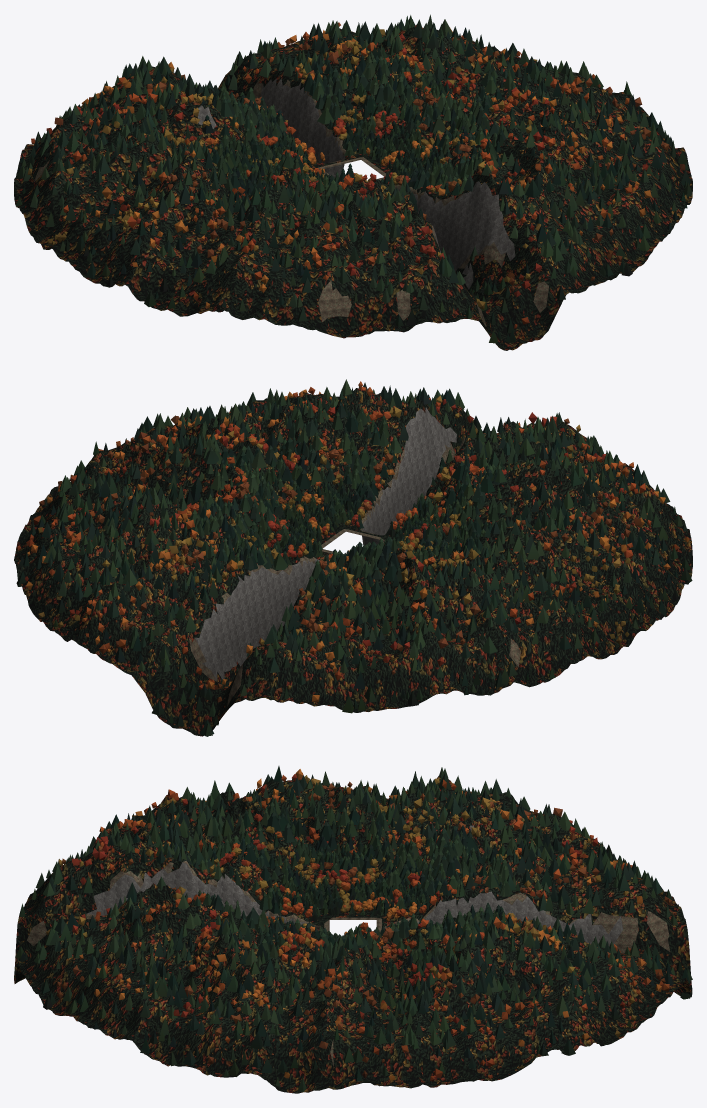
File: backdrop_near_rect_ridge_autumn.glb
The picture shows the model from 3 angles, top to bottom: view 1: azimuth 30°, elevation 25°; view 2: azimuth 150°, elevation 25°; view 3: azimuth 270°, elevation 25°; orthographic projection.
Parts seen in each view (by area): view 1: near_land_S, near_land_W, trees_land_W_0, trees_land_S_0, trees_land_E_0, trees_land_N_0, near_land_E, near_land_N; view 2: near_land_N, near_land_W, trees_land_N_0, trees_land_W_0, trees_land_E_0, trees_land_S_0, near_land_S, near_land_E; view 3: near_land_E, trees_land_E_0, near_land_S, trees_land_W_0, trees_land_N_0, near_land_N, trees_land_S_0, near_land_W.
Part boxes in pixels (x1,y1,x2,y2): near_land_S: (265, 126, 681, 350); near_land_W: (14, 103, 316, 320); trees_land_W_0: (16, 95, 334, 314); trees_land_S_0: (277, 120, 677, 343); trees_land_E_0: (365, 19, 692, 210); trees_land_N_0: (31, 14, 435, 164); near_land_E: (363, 27, 692, 218); near_land_N: (26, 28, 431, 177); near_land_N: (26, 511, 441, 736); near_land_W: (395, 463, 692, 695); trees_land_N_0: (38, 502, 437, 736); trees_land_W_0: (382, 458, 692, 695); trees_land_E_0: (16, 388, 340, 589); trees_land_S_0: (274, 379, 670, 536); near_land_S: (275, 388, 676, 545); near_land_E: (14, 398, 345, 594); near_land_E: (114, 914, 593, 1093); trees_land_E_0: (121, 904, 589, 1091); near_land_S: (14, 815, 332, 1038); trees_land_W_0: (132, 766, 572, 915); trees_land_N_0: (386, 811, 692, 1037); near_land_N: (382, 818, 692, 1046); trees_land_S_0: (15, 804, 320, 1037); near_land_W: (139, 776, 561, 918).
Bounding box in the file's own units: 576 × 175 × 577.
4 materials, 3 textured.
